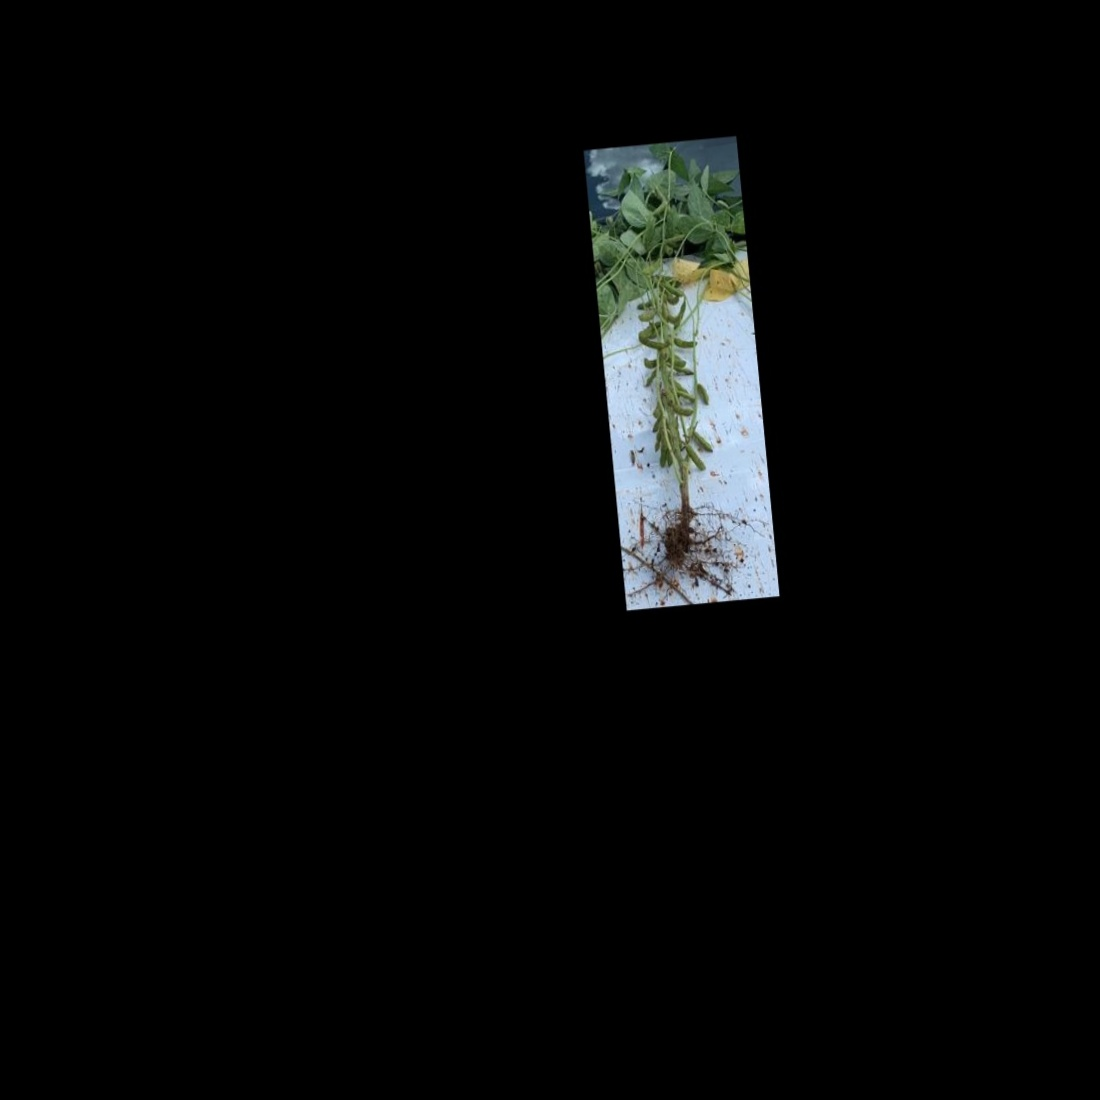pod: (683, 439, 707, 476), (691, 427, 715, 456), (670, 331, 700, 353), (668, 399, 694, 418), (636, 335, 666, 352), (695, 381, 711, 409), (634, 307, 659, 323), (649, 430, 666, 453)
soy: (595, 142, 765, 587)
